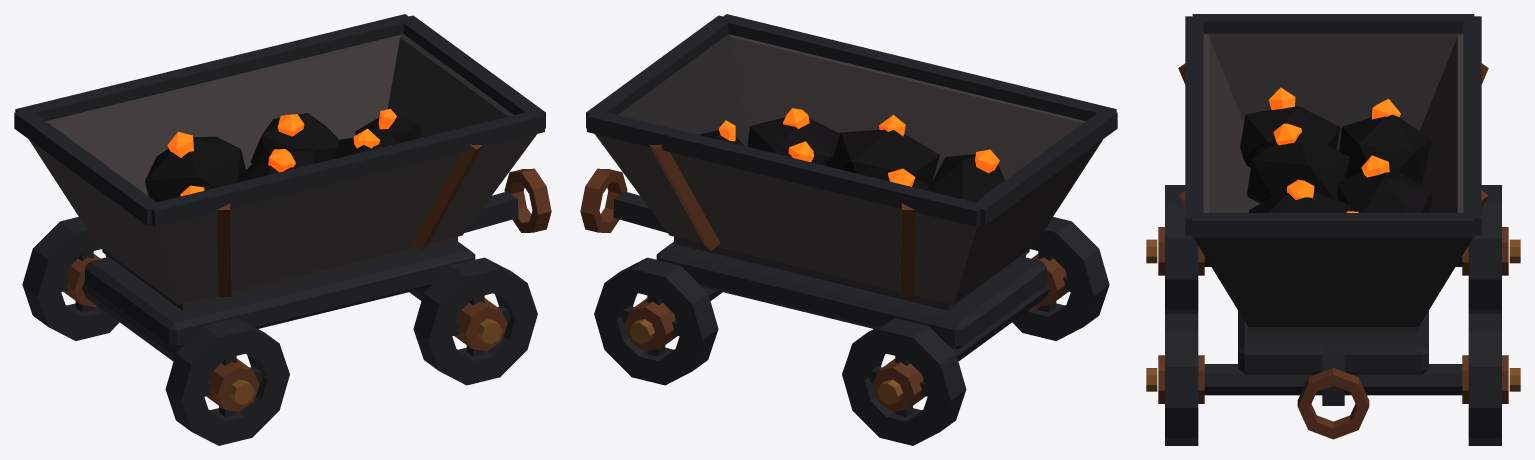
File: Ore_Minecart.glb
The picture shows the model from 3 angles, left to right: view 1: azimuth 30°, elevation 25°; view 2: azimuth 150°, elevation 25°; view 3: azimuth 270°, elevation 25°; orthographic projection. The views are drawn at different scales.
Parts seen in each view (by area): view 1: Ore_Minecart; view 2: Ore_Minecart; view 3: Ore_Minecart.
Part boxes in pixels (box(x1,y1,x2,y2)): Ore_Minecart: box(14, 14, 551, 445); Ore_Minecart: box(580, 14, 1117, 445); Ore_Minecart: box(1146, 14, 1520, 445).
Size of the model in its own units: 3 by 1.52 by 2.02.
